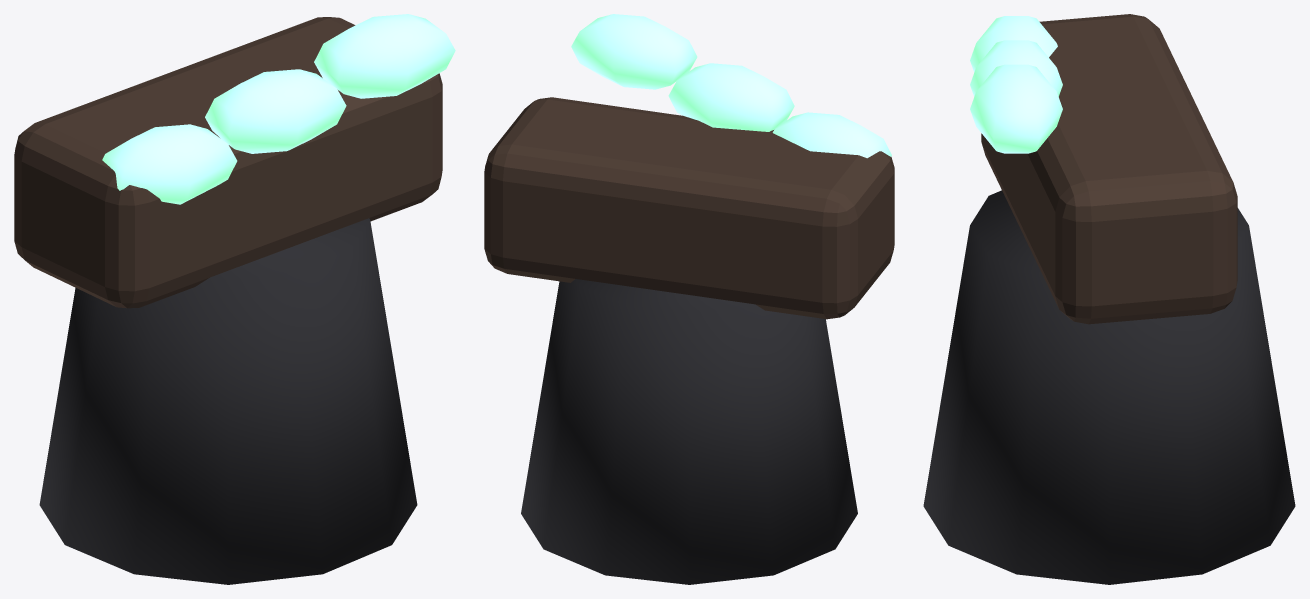
Rendered from withered_sprig_fungus_log.glb.
3 views of the same model, side by side, from view 1: azimuth 30°, elevation 25°; view 2: azimuth 150°, elevation 25°; view 3: azimuth 270°, elevation 25° (orthographic). The views are drawn at different scales.
Visible parts, largest first — view 1: GD_withered_sprig_fungus_log__m0, GD_withered_sprig_fungus_log__m1, GD_withered_sprig_fungus_log__m2; view 2: GD_withered_sprig_fungus_log__m0, GD_withered_sprig_fungus_log__m1, GD_withered_sprig_fungus_log__m2; view 3: GD_withered_sprig_fungus_log__m0, GD_withered_sprig_fungus_log__m1, GD_withered_sprig_fungus_log__m2.
Part boxes in pixels (x1,y1,x2,y2): GD_withered_sprig_fungus_log__m0: [39, 218, 417, 584]; GD_withered_sprig_fungus_log__m1: [14, 17, 442, 308]; GD_withered_sprig_fungus_log__m2: [102, 14, 455, 204]; GD_withered_sprig_fungus_log__m0: [521, 279, 857, 584]; GD_withered_sprig_fungus_log__m1: [484, 97, 894, 319]; GD_withered_sprig_fungus_log__m2: [571, 14, 891, 158]; GD_withered_sprig_fungus_log__m0: [923, 190, 1295, 584]; GD_withered_sprig_fungus_log__m1: [981, 14, 1237, 324]; GD_withered_sprig_fungus_log__m2: [970, 16, 1062, 153].
Size of the model in its own units: 0.1452 by 0.1725 by 0.12.
